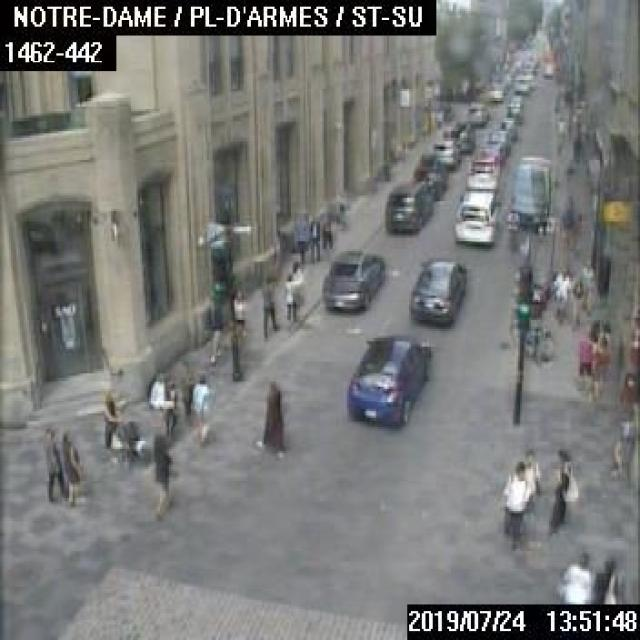pedestrian: (100, 382, 144, 461), (546, 444, 576, 534), (498, 460, 526, 544), (260, 371, 285, 453), (58, 424, 82, 502), (38, 420, 62, 498), (148, 373, 177, 436), (594, 549, 628, 602), (556, 547, 590, 600), (151, 436, 175, 507), (190, 376, 213, 442), (201, 293, 221, 364), (258, 271, 278, 338), (521, 446, 538, 518), (574, 332, 591, 401), (284, 258, 302, 320), (592, 330, 608, 398), (551, 268, 569, 322), (579, 258, 594, 314), (232, 287, 244, 346), (570, 276, 582, 328), (306, 212, 318, 262), (321, 210, 332, 253)
vehicle: (342, 329, 433, 427), (409, 252, 466, 324), (322, 247, 383, 310), (508, 156, 553, 234), (453, 185, 504, 244), (384, 180, 433, 234), (412, 153, 448, 198), (465, 151, 502, 188), (428, 133, 460, 166), (449, 120, 473, 150), (477, 140, 504, 163), (486, 128, 509, 154), (462, 101, 488, 124), (496, 118, 516, 140), (503, 101, 522, 122), (512, 72, 528, 92), (489, 85, 503, 101), (506, 93, 520, 101)
